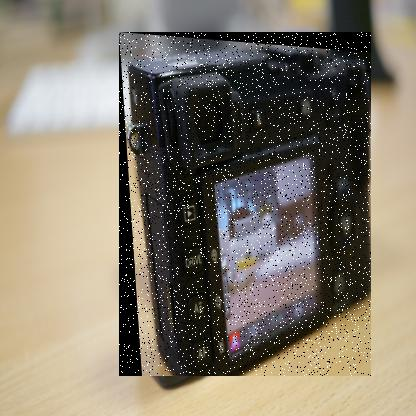Camera: (120, 33, 373, 378)
